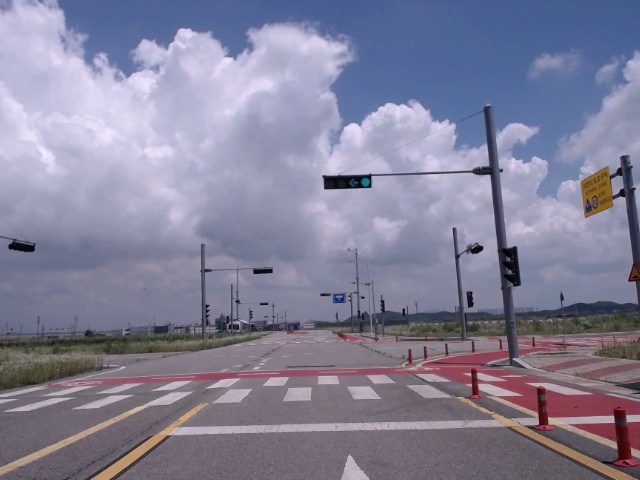all_green_4: (321, 175, 370, 188)
